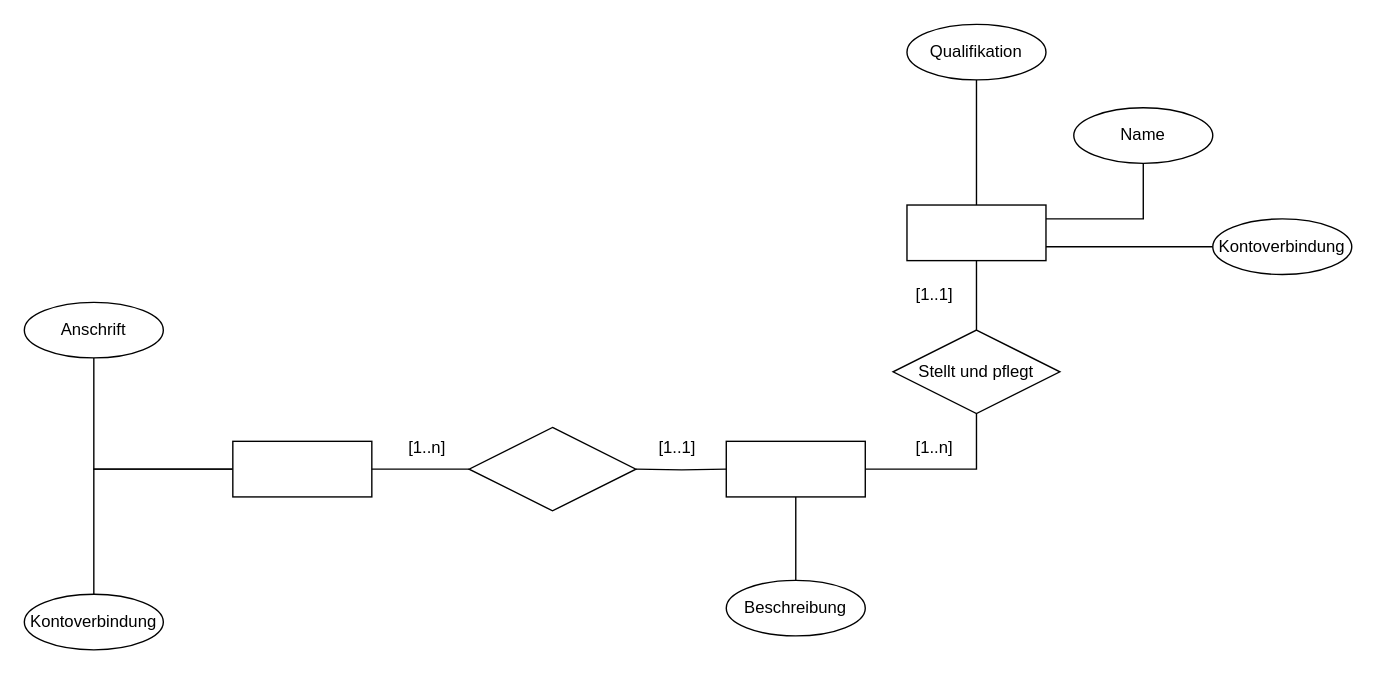
This 1376x674 diagram has some shape labels left out. Here are the shapes that lost their labels. From the top down, the centre of each, then its label:
At point 976,232: "Mitarbeiter".
At point 301,468: "Kunde".
At point 552,468: "Kauft".
At point 795,468: "Programm".
